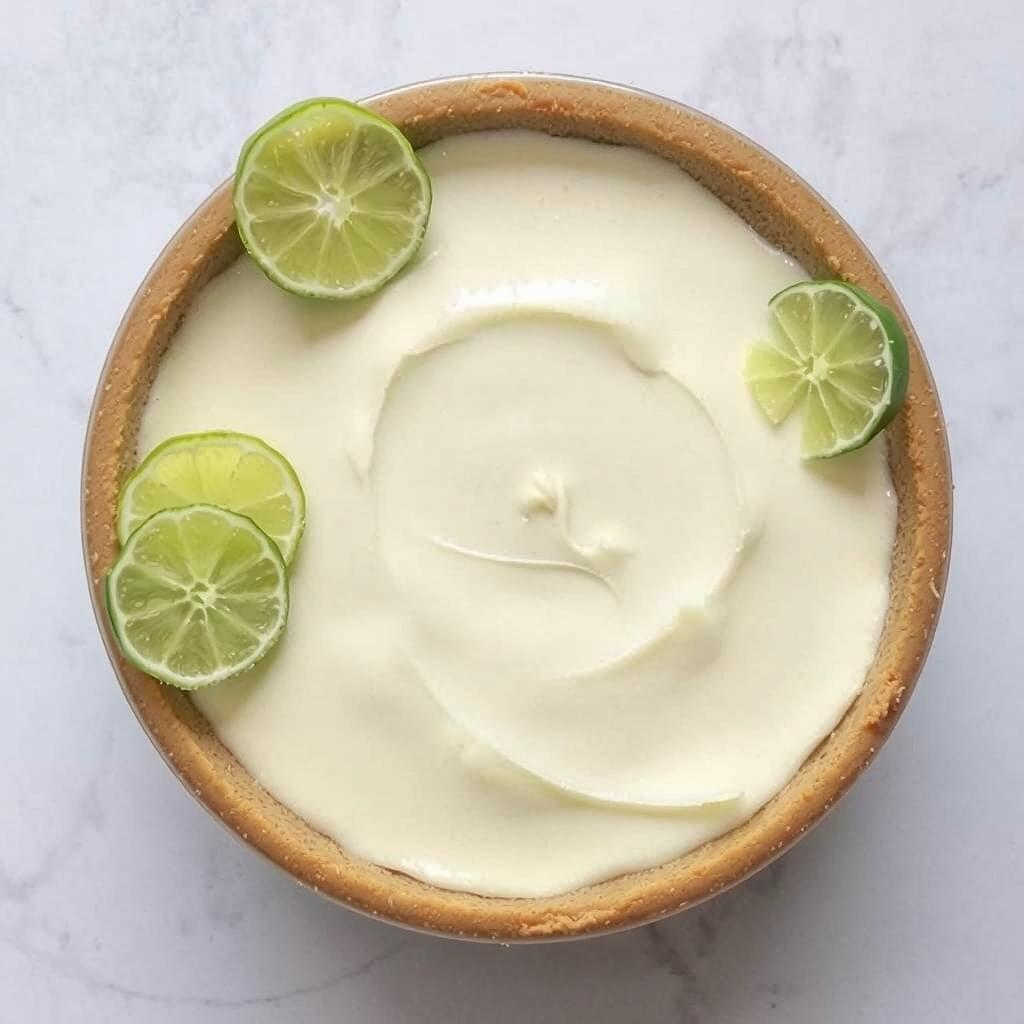pie: (73, 71, 959, 951)
